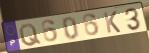0: (62, 16, 80, 42)
3: (124, 7, 141, 32)
6: (83, 12, 101, 40), (42, 19, 60, 46)
K: (103, 10, 123, 35)
Q: (18, 22, 42, 47)
